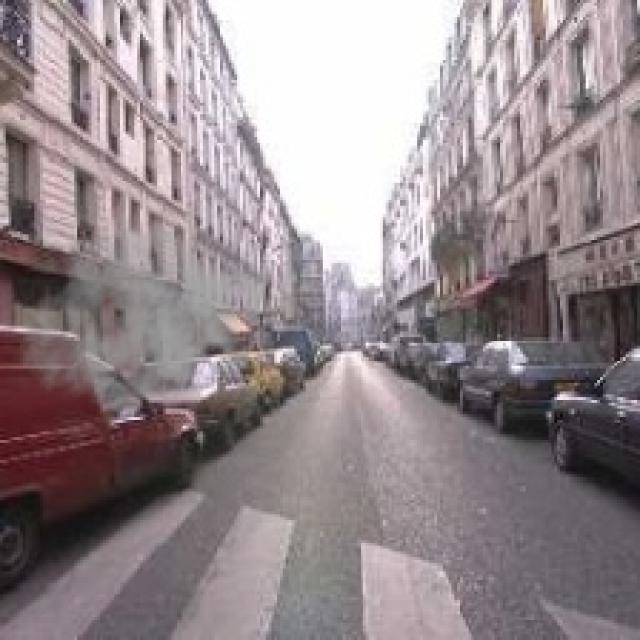smoke: (17, 211, 272, 426)
